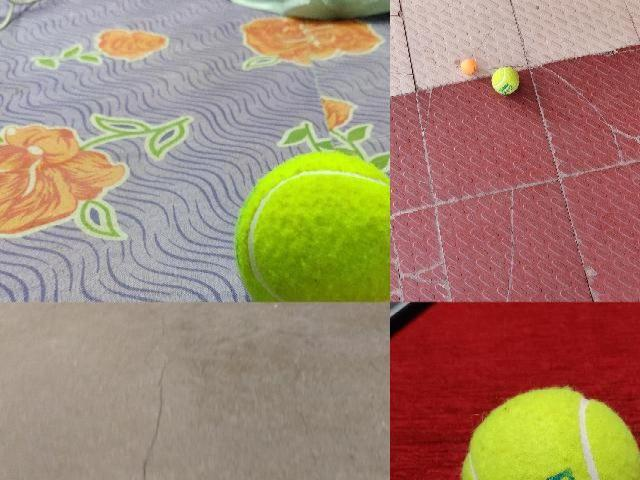tennis-ball: (232, 150, 389, 301), (460, 384, 639, 479), (491, 66, 519, 94)
